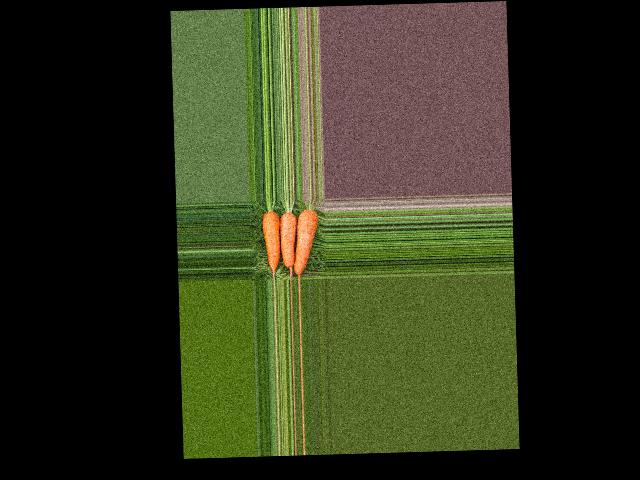carrot: (292, 208, 320, 275)
